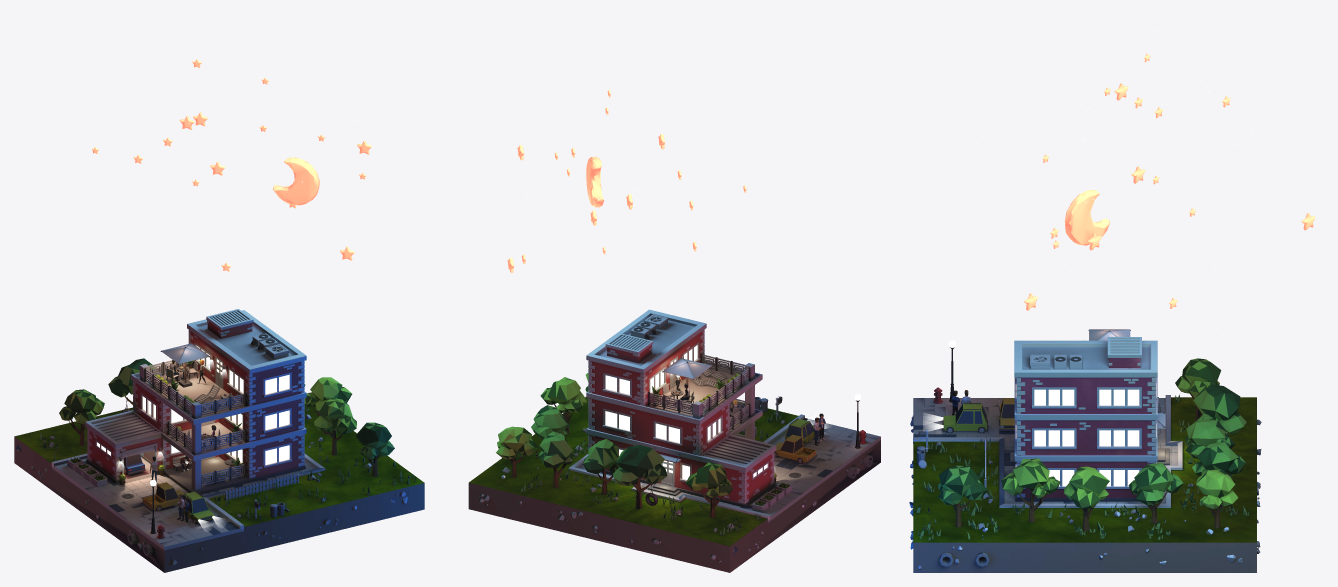
The model's file is orhouse.glb.
3 views of the same model, side by side, from view 1: azimuth 30°, elevation 25°; view 2: azimuth 150°, elevation 25°; view 3: azimuth 270°, elevation 25° (orthographic). The views are drawn at different scales.
Visible parts, largest first — view 1: Ground_Ground_0, Home_Home_0, Plane_T_Grass_3x3_Plane_Grass_0, Elements_Elements_0, Stars_SkyStars_0, Home_Windows_0, Cars_Cars_0, Chars_Chars_0; view 2: Ground_Ground_0, Home_Home_0, Plane_T_Grass_3x3_Plane_Grass_0, Elements_Elements_0, Home_Windows_0, Stars_SkyStars_0, Cars_Cars_0; view 3: Ground_Ground_0, Plane_T_Grass_3x3_Plane_Grass_0, Home_Home_0, Home_Windows_0, Stars_SkyStars_0, Elements_Elements_0, Cars_Cars_0.
Boxes of the visible parts, box(x1,y1,x2,y2) form: Ground_Ground_0: box(14, 358, 424, 572); Home_Home_0: box(85, 309, 306, 494); Plane_T_Grass_3x3_Plane_Grass_0: box(14, 405, 424, 526); Elements_Elements_0: box(67, 333, 298, 538); Stars_SkyStars_0: box(91, 59, 371, 271); Home_Windows_0: box(97, 346, 289, 464); Cars_Cars_0: box(124, 454, 214, 524); Chars_Chars_0: box(150, 359, 216, 524); Ground_Ground_0: box(468, 373, 880, 572); Home_Home_0: box(586, 309, 776, 507); Plane_T_Grass_3x3_Plane_Grass_0: box(469, 397, 798, 546); Elements_Elements_0: box(630, 314, 866, 512); Home_Windows_0: box(605, 345, 767, 479); Stars_SkyStars_0: box(507, 90, 746, 272); Cars_Cars_0: box(774, 418, 819, 463); Ground_Ground_0: box(909, 358, 1261, 572); Plane_T_Grass_3x3_Plane_Grass_0: box(913, 397, 1256, 542); Home_Home_0: box(1014, 337, 1169, 501); Home_Windows_0: box(1034, 389, 1139, 486); Stars_SkyStars_0: box(1024, 53, 1315, 310); Elements_Elements_0: box(916, 329, 1158, 487); Cars_Cars_0: box(943, 398, 1014, 433).
Bounding box in the file's own units: 922 × 1251 × 949.
15 materials, 12 textured.
